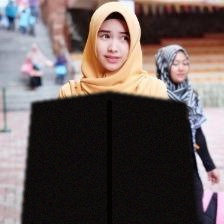Cadar_Niqab: (21, 3, 197, 224)
